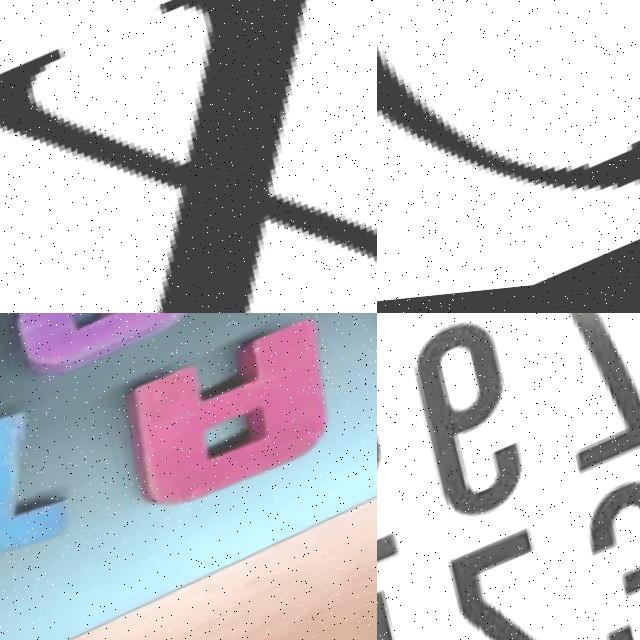0: (377, 0, 640, 313)
2: (427, 523, 607, 640)
3: (559, 471, 640, 640)
5: (377, 361, 437, 605)
6: (388, 313, 565, 553)
7: (518, 313, 640, 495)
A: (109, 318, 366, 539)
S: (0, 313, 234, 398)
T: (0, 387, 105, 607)
X: (0, 0, 377, 313)
